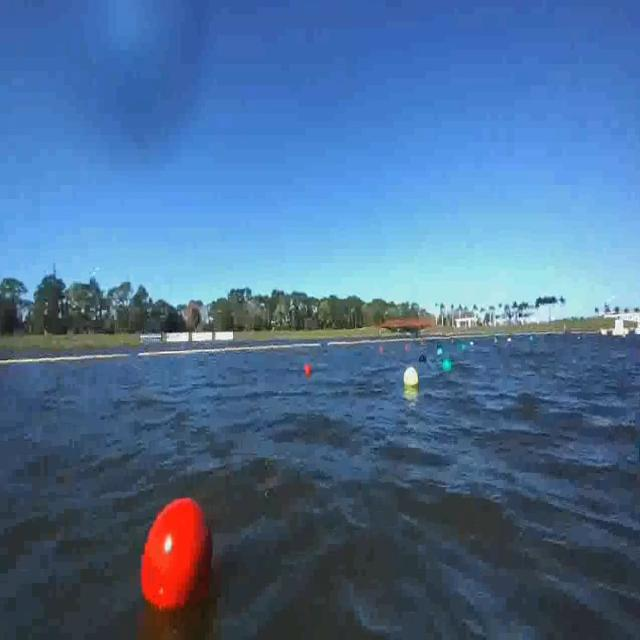red-buoy: (132, 492, 223, 621)
yellow-buoy: (406, 365, 420, 387)
